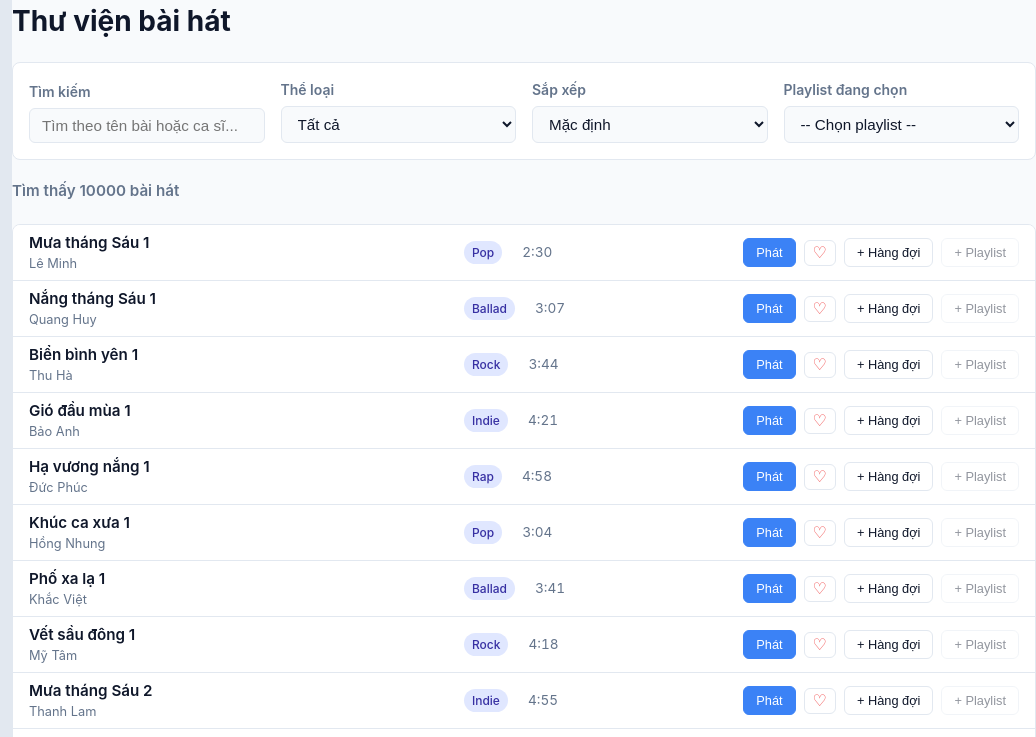
Test: LibraryPage - Tự kiểm tra Phần 1 › chọn thể loại Rock khi đang tìm "mưa" hiển thị "Tìm thấy 250 bài hát"
Type "mưa" into the field labelled "Tìm kiếm". click: (147, 125)
box: [29, 108, 264, 143]
Wait 300 ms
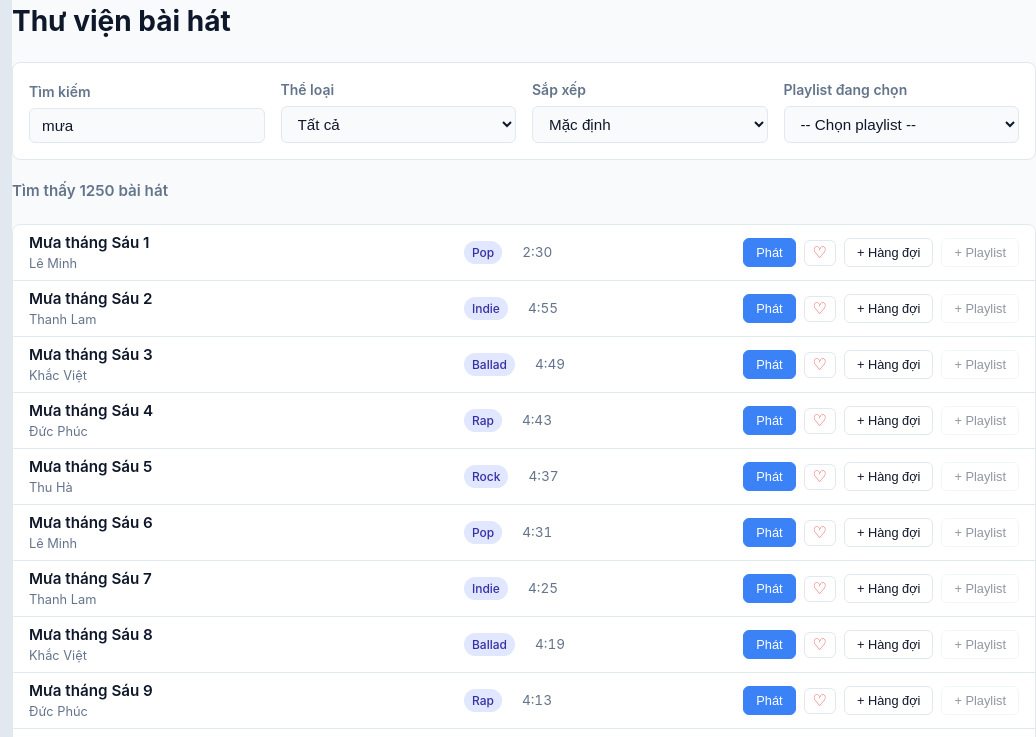
Check: the text "Tìm thấy 1250 bài hát" is shown, box [12, 181, 168, 200]
Select "Rock" in the dropdown labelled "Thể loại". click: (398, 124)
box: [280, 106, 516, 143]
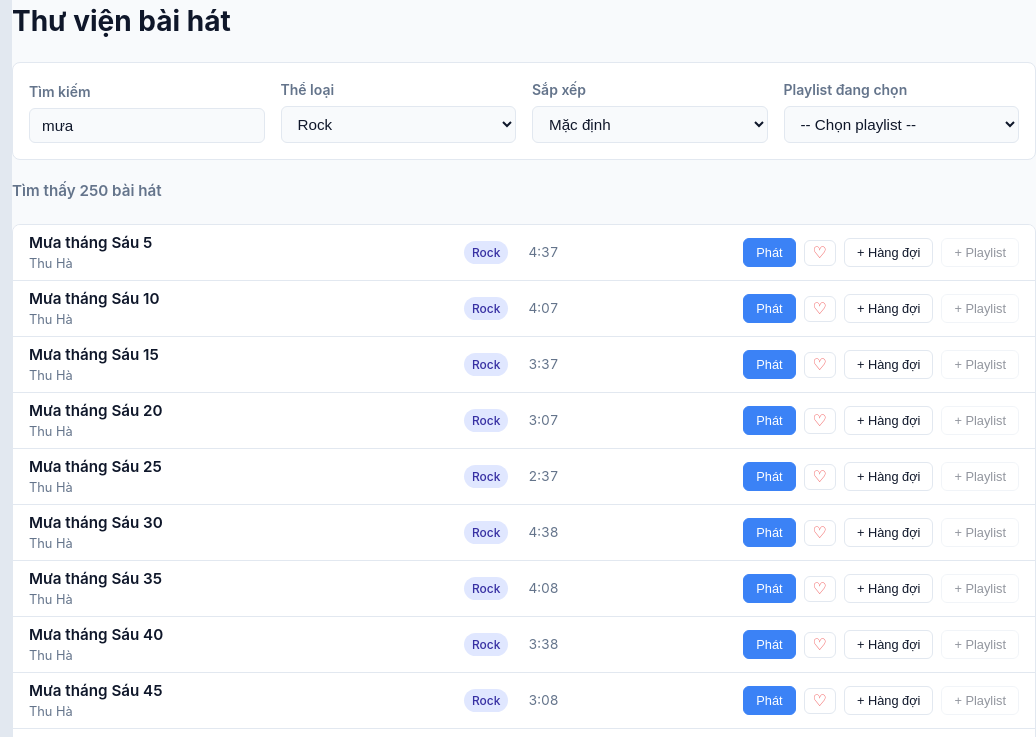
Check: the text "Tìm thấy 250 bài hát" is shown, box [12, 181, 162, 200]
